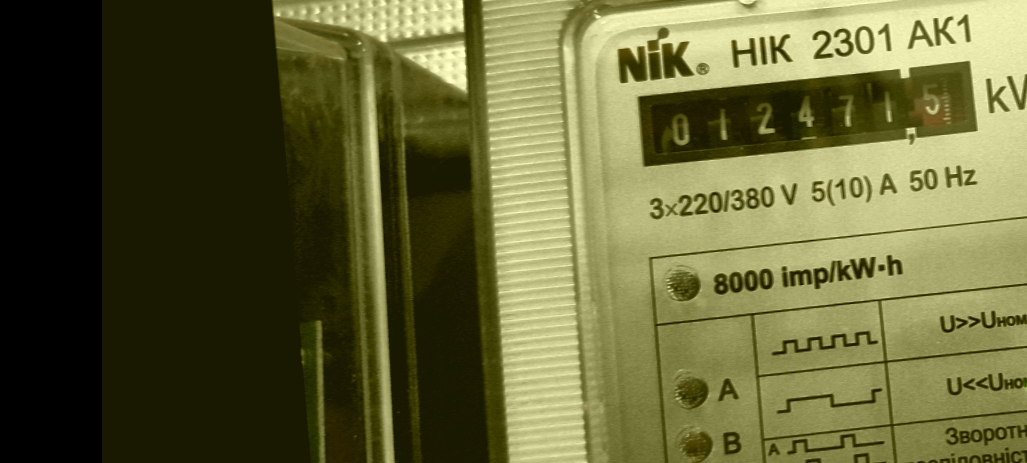0: (668, 108, 694, 146)
1: (716, 104, 731, 141), (881, 86, 895, 123)
2: (755, 98, 778, 135)
4: (795, 91, 817, 129)
5: (920, 77, 944, 116)
7: (835, 89, 858, 129)
screen: (626, 49, 991, 175)
